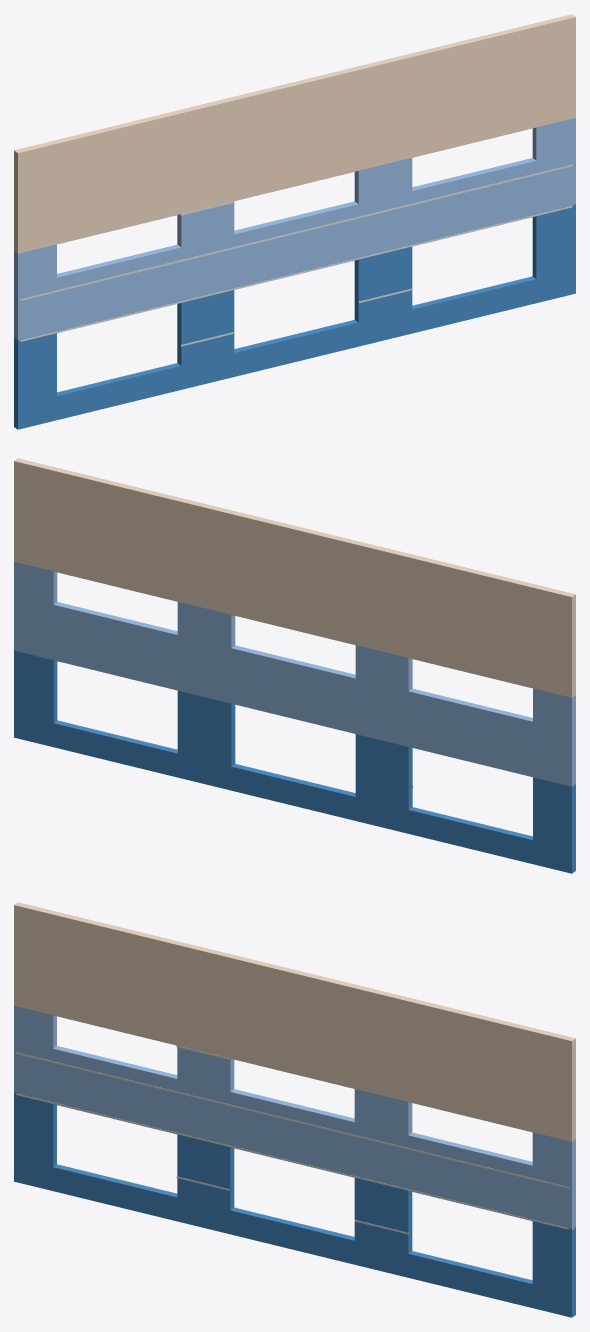
Rendered from wall3.fbx.
The picture shows the model from 3 angles, top to bottom: view 1: azimuth 30°, elevation 25°; view 2: azimuth 150°, elevation 25°; view 3: azimuth 330°, elevation 25°; orthographic projection.
Visible parts, largest first — view 1: gymnasium.006, gymnasium.160, gymnasium.159, gymnasium.318, gymnasium.317; view 2: gymnasium.006, gymnasium.160, gymnasium.159; view 3: gymnasium.006, gymnasium.160, gymnasium.159, gymnasium.318, gymnasium.317.
Boxes of the visible parts, box(x1,y1,x2,y2) form: gymnasium.006: box(14, 14, 575, 253); gymnasium.160: box(14, 117, 575, 342); gymnasium.159: box(14, 204, 575, 429); gymnasium.318: box(20, 205, 572, 341); gymnasium.317: box(20, 164, 572, 300); gymnasium.006: box(14, 458, 575, 697); gymnasium.160: box(14, 561, 575, 786); gymnasium.159: box(14, 650, 575, 873); gymnasium.006: box(14, 902, 575, 1141); gymnasium.160: box(14, 1005, 575, 1230); gymnasium.159: box(14, 1092, 575, 1317); gymnasium.318: box(16, 1093, 568, 1229); gymnasium.317: box(16, 1052, 568, 1188).
Size of the model in its own units: 2461 by 1166 by 31.21.
